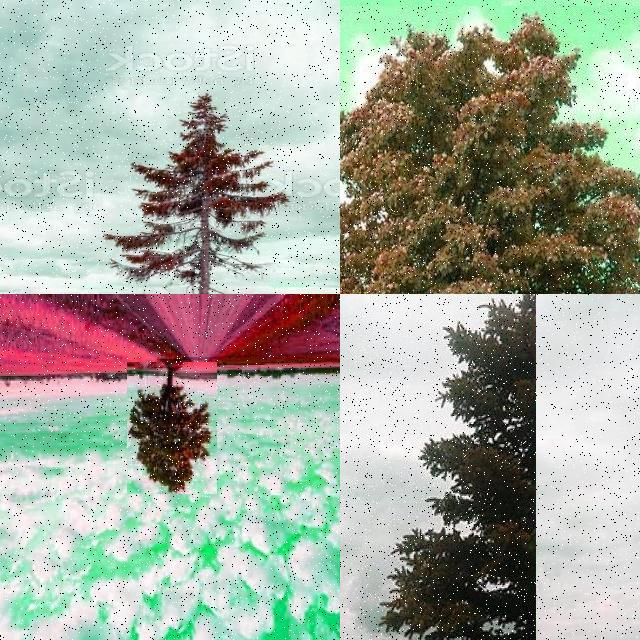tree: (340, 6, 640, 294), (340, 294, 536, 640), (110, 86, 290, 294), (127, 362, 217, 494)
